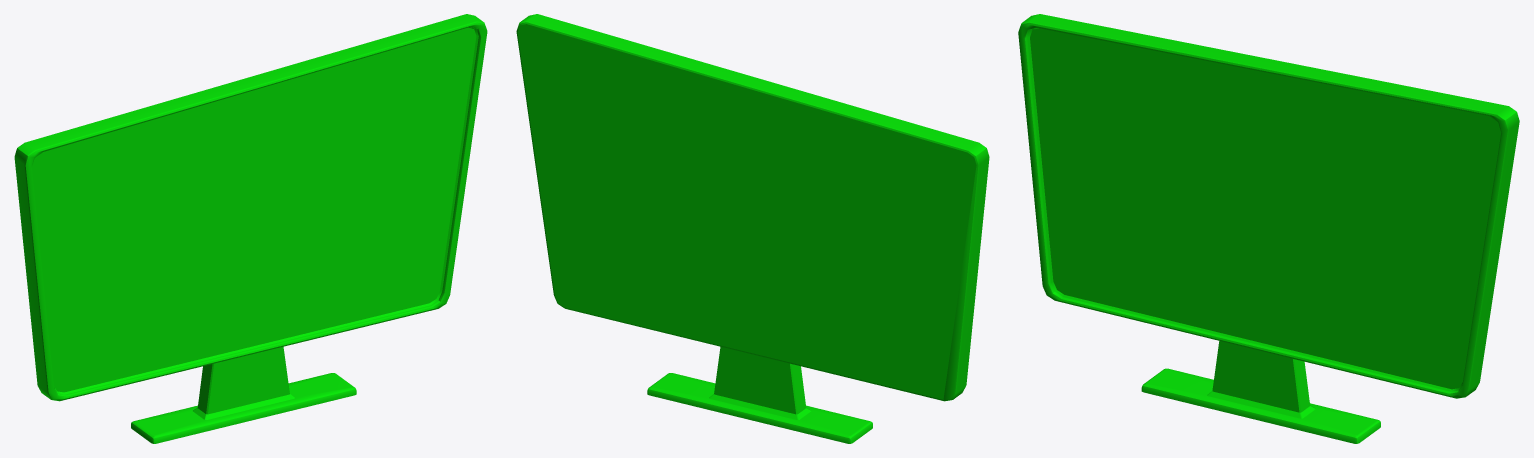
Rendered from TV_msh.fbx.
3 renders of one model, left to right at view 1: azimuth 30°, elevation 25°; view 2: azimuth 150°, elevation 25°; view 3: azimuth 330°, elevation 25°, orthographic. The views are drawn at different scales.
Visible parts, largest first — view 1: TV_msh; view 2: TV_msh; view 3: TV_msh.
Part boxes in pixels (x1=…): TV_msh: x1=14, y1=14, x2=487, y2=443; TV_msh: x1=516, y1=14, x2=989, y2=443; TV_msh: x1=1018, y1=14, x2=1519, y2=443.
Bounding box in the file's own units: 113 × 78.7 × 10.
